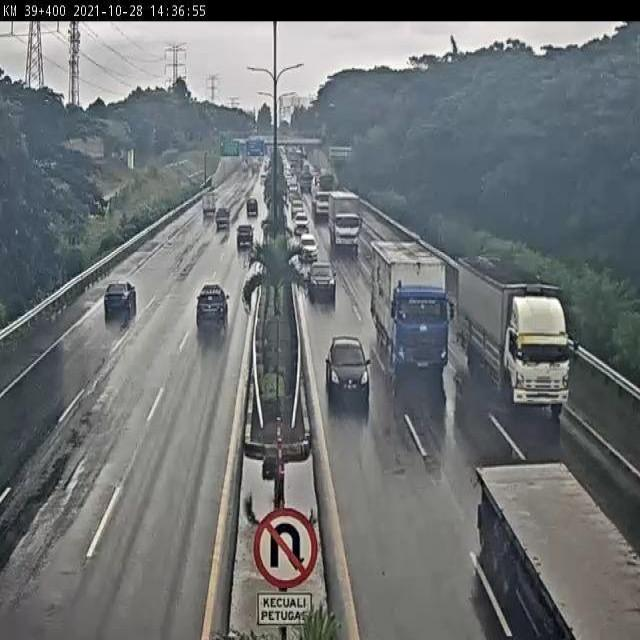big truck: (476, 277, 565, 404), (369, 240, 444, 365), (331, 193, 365, 248)
car: (322, 321, 370, 399), (179, 293, 228, 351), (88, 285, 130, 335), (299, 255, 341, 301), (238, 225, 252, 258), (244, 196, 262, 220), (301, 230, 317, 253), (293, 209, 306, 228)
